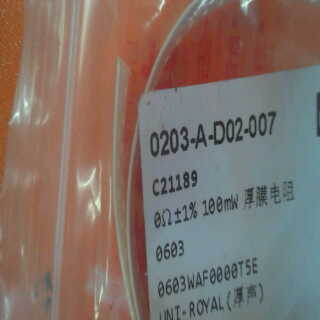0R: (144, 199, 198, 263)
